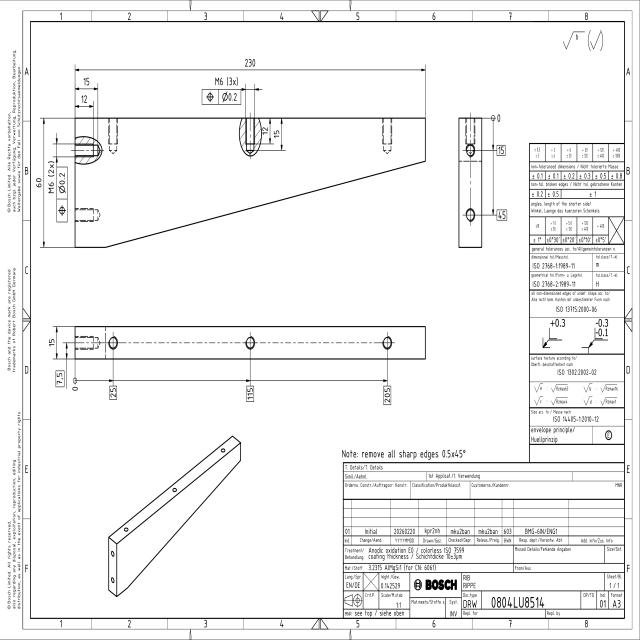dimension: (47, 159, 55, 195), (214, 75, 238, 87), (383, 386, 391, 406), (244, 56, 256, 68), (56, 370, 64, 388), (246, 386, 254, 402), (497, 209, 507, 221), (109, 385, 117, 400), (35, 176, 43, 189), (82, 76, 91, 87), (496, 145, 505, 156), (48, 337, 56, 348), (81, 93, 88, 104), (273, 128, 280, 138), (496, 112, 502, 123), (262, 126, 268, 135), (72, 386, 79, 392)
